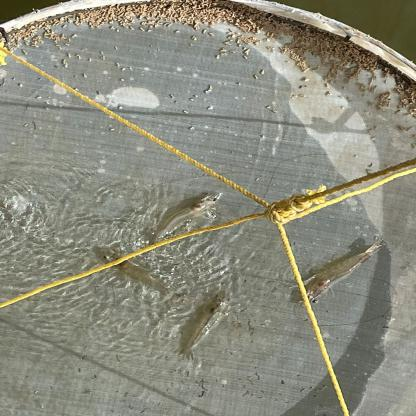shrimp: (97, 248, 190, 311), (300, 241, 385, 306), (147, 192, 223, 248), (175, 292, 233, 362)
